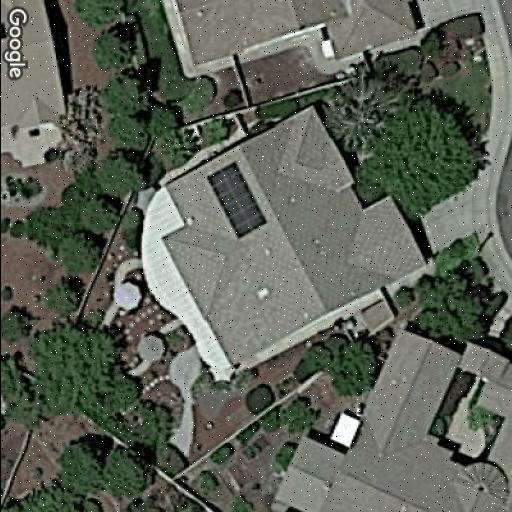solar-panel: (204, 158, 270, 240)
